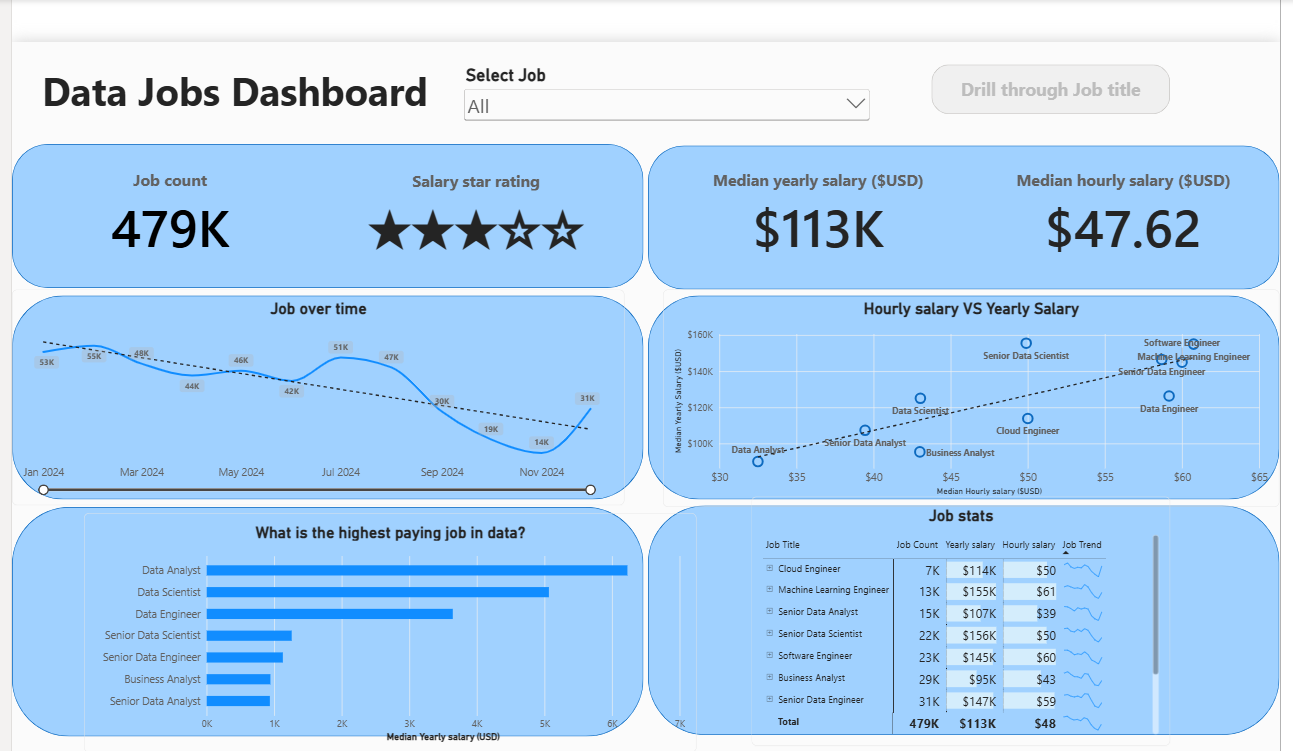

Layout of this report page (visuals, bound fields, positions):
{"tool":"powerbi","page":{"name":"Job Dashbboard","canvas":[1920,1080],"ordinal":0},"visuals":[{"type":"shape","box":[0,154.4,956.2,218],"z":0,"group":"g1"},{"type":"group","id":"g1","title":"Background","box":[0,154.4,1919.3,897.2],"z":0},{"type":"textbox","box":[45.4,34.1,692.7,111.3],"z":1000},{"type":"shape","box":[963,156.7,956.2,218],"z":1000,"group":"g1"},{"type":"slicer","fields":{"Values":["job_postings_flat.job_title_short"]},"box":[679.1,34.1,624.6,118.1],"z":2000},{"type":"shape","box":[0,383.8,956.2,308.9],"z":2000,"group":"g1"},{"type":"cardVisual","fields":{"Data":["CountNonNull(job_postings_flat.job_title_short)"]},"box":[0,153.1,479.5,219.5],"z":3000},{"type":"shape","box":[963,383.8,956.2,308.9],"z":3000,"group":"g1"},{"type":"cardVisual","fields":{"Data":["job_postings_flat.Median of salary_year_avg star rating 2"]},"box":[479.5,153.1,447.8,222.4],"z":4000},{"type":"shape","box":[0,704.1,956.2,347.5],"z":4000,"group":"g1"},{"type":"cardVisual","fields":{"Data":["Median(job_postings_flat.salary_year_avg)"]},"box":[990.8,153.1,461.1,220.3],"z":5000},{"type":"shape","box":[963,701.8,956.2,347.5],"z":5000,"group":"g1"},{"type":"cardVisual","fields":{"Data":["Median(job_postings_flat.salary_hour_avg)"]},"box":[1446.8,152.2,472.4,220.3],"z":6000},{"type":"lineChart","title":"Job over time","fields":{"Category":["job_postings_flat.job_posted_date.Variation.Date Hierarchy.Year","job_postings_flat.job_posted_date.Variation.Date Hierarchy.Quarter","job_postings_flat.job_posted_date.Variation.Date Hierarchy.Month","job_postings_flat.job_posted_date.Variation.Date Hierarchy.Day"],"Y":["CountNonNull(job_postings_flat.job_title_short)"]},"box":[0,375.5,927.3,326.4],"z":7000},{"type":"barChart","title":"What is the highest paying job in data?","fields":{"Category":["job_postings_flat.job_title_short"],"Y":["CountNonNull(job_postings_flat.salary_year_avg)"]},"box":[0,704.8,927.3,364],"z":8000},{"type":"pivotTable","title":"Job stats","fields":{"Rows":["job_postings_flat.job_title_short","job_postings_flat.job_posted_date.Variation.Date Hierarchy.Year","job_postings_flat.job_posted_date.Variation.Date Hierarchy.Quarter","job_postings_flat.job_posted_date.Variation.Date Hierarchy.Month","job_postings_flat.job_posted_date.Variation.Date Hierarchy.Day"],"Values":["CountNonNull(job_postings_flat.job_title_short)","Median(job_postings_flat.salary_year_avg)","Median(job_postings_flat.salary_hour_avg)","SparklineData(CountNonNull(job_postings_flat.job_title_short)_[job_postings_flat.job_posted_date.Variation.Date Hierarch"]},"box":[1119.8,688.2,633.7,377],"z":9000},{"type":"scatterChart","title":"Hourly salary VS Yearly Salary","fields":{"Series":["job_postings_flat.job_title_short"],"X":["Median(job_postings_flat.salary_hour_avg)"],"Y":["Median(job_postings_flat.salary_year_avg)"]},"box":[985.1,375.5,933.1,329.3],"z":10000},{"type":"actionButton","box":[1392.3,34.1,361.1,75],"z":11000}]}

Visuals, with their boxes on the page's 1920x1080 design canvas (x1, y1, x2, y2). These are canvas units, not pixel positions in the 1293x751 screenshot, which may show the page scaled, cropped or inside an application window:
shape: x1=0, y1=154, x2=956, y2=372
"Background" group: x1=0, y1=154, x2=1919, y2=1052
textbox: x1=45, y1=34, x2=738, y2=145
shape: x1=963, y1=157, x2=1919, y2=375
slicer - job_postings_flat.job_title_short: x1=679, y1=34, x2=1304, y2=152
shape: x1=0, y1=384, x2=956, y2=693
cardVisual - CountNonNull(job_postings_flat.job_title_short): x1=0, y1=153, x2=480, y2=373
shape: x1=963, y1=384, x2=1919, y2=693
cardVisual - job_postings_flat.Median of salary_year_avg star rating 2: x1=480, y1=153, x2=927, y2=376
shape: x1=0, y1=704, x2=956, y2=1052
cardVisual - Median(job_postings_flat.salary_year_avg): x1=991, y1=153, x2=1452, y2=373
shape: x1=963, y1=702, x2=1919, y2=1049
cardVisual - Median(job_postings_flat.salary_hour_avg): x1=1447, y1=152, x2=1919, y2=372
"Job over time" lineChart: x1=0, y1=376, x2=927, y2=702
"What is the highest paying job in data?" barChart: x1=0, y1=705, x2=927, y2=1069
"Job stats" pivotTable: x1=1120, y1=688, x2=1754, y2=1065
"Hourly salary VS Yearly Salary" scatterChart: x1=985, y1=376, x2=1918, y2=705
actionButton: x1=1392, y1=34, x2=1753, y2=109
